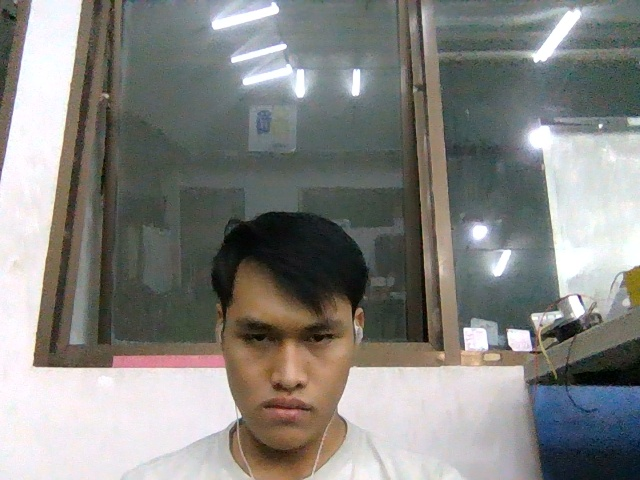mask_off: (227, 371, 348, 451)
